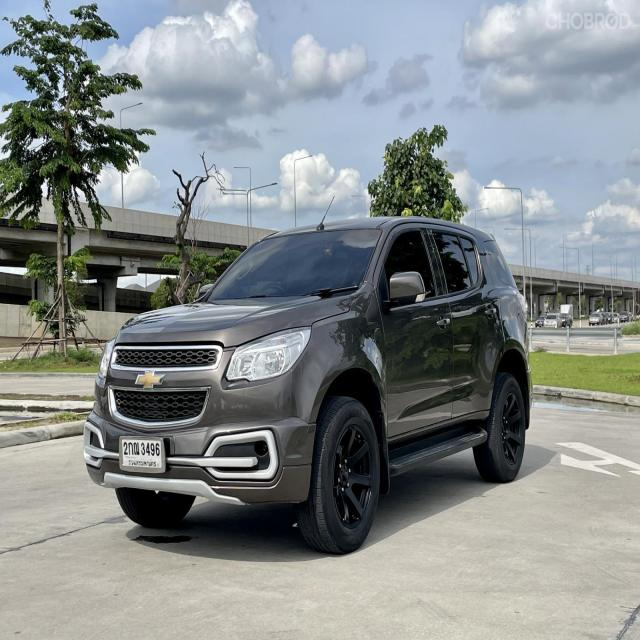license_plate: (118, 434, 168, 475)
